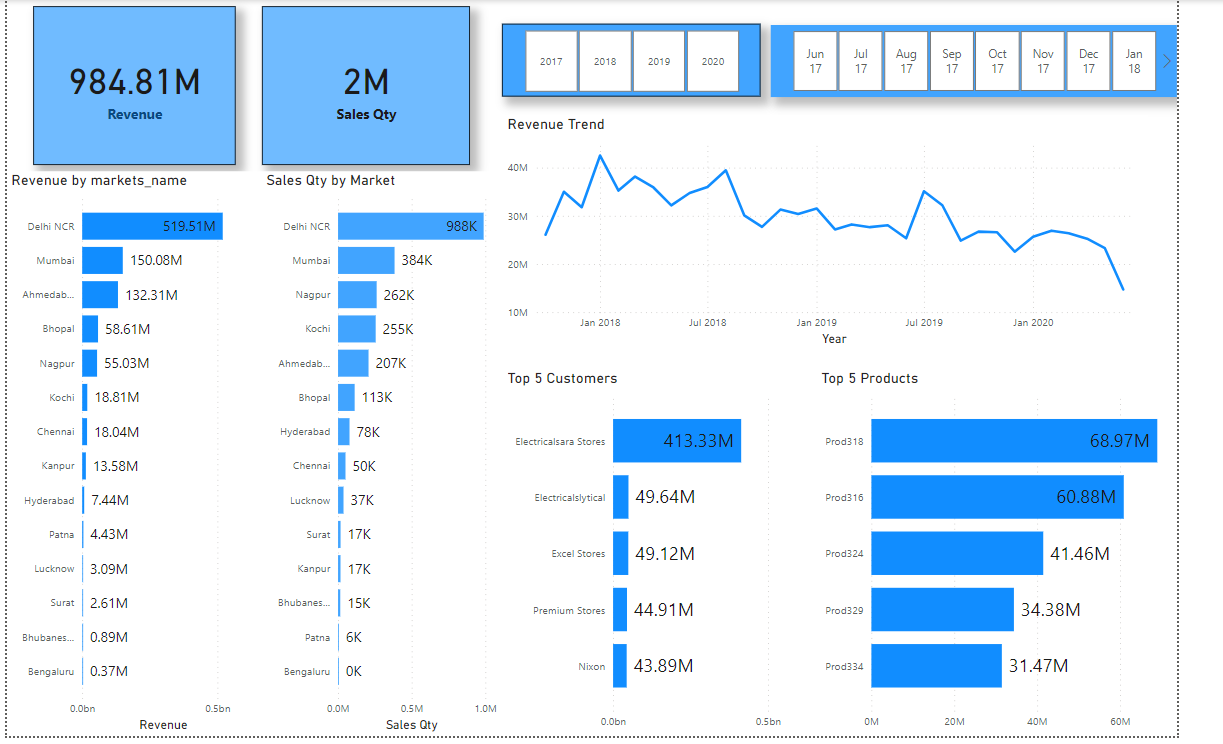

The dashboard page shown, as its layout file describes it:
{"tool":"powerbi","page":{"name":"Page 1","canvas":[1350,850],"ordinal":0},"visuals":[{"type":"card","fields":{"Values":["BaseMeasures.Revenue"]},"box":[30,6.7,233.3,183.3],"z":0},{"type":"card","fields":{"Values":["BaseMeasures.Sales Qty"]},"box":[295,6.7,240,183.3],"z":1000},{"type":"barChart","fields":{"Y":["BaseMeasures.Revenue"],"Category":["sales markets.markets_name"]},"box":[0,197.7,294.4,652.3],"z":2000},{"type":"barChart","title":"Sales Qty by Market","fields":{"Y":["BaseMeasures.Sales Qty"],"Category":["sales markets.markets_name"]},"box":[294.4,197.7,277.1,652.3],"z":3000},{"type":"slicer","fields":{"Values":["sales date.year"]},"box":[571.4,27.1,298.6,84.3],"z":4000},{"type":"slicer","fields":{"Values":["sales date.cy_date"]},"box":[881.4,28.6,468.6,82.8],"z":5000},{"type":"barChart","title":"Top 5 Customers","fields":{"Y":["BaseMeasures.Revenue"],"Category":["sales customers.custmer_name"]},"box":[573.3,425,361.7,425],"z":6000},{"type":"barChart","title":"Top 5 Products","fields":{"Category":["sales transactions.product_code"],"Y":["BaseMeasures.Revenue"]},"box":[935,425,415,425],"z":7000},{"type":"lineChart","title":"Revenue Trend","fields":{"Y":["BaseMeasures.Revenue"],"Category":["sales date.cy_date.Variation.Date Hierarchy.Year","sales date.cy_date.Variation.Date Hierarchy.Quarter","sales date.cy_date.Variation.Date Hierarchy.Month","sales date.cy_date.Variation.Date Hierarchy.Day"]},"box":[573.3,133.3,745,271.7],"z":8000}]}

Visuals, with their boxes in screenshot pixels (x1, y1, x2, y2):
card - BaseMeasures.Revenue: left=106, top=3, right=307, bottom=161
card - BaseMeasures.Sales Qty: left=335, top=3, right=542, bottom=161
barChart - BaseMeasures.Revenue x sales markets.markets_name: left=80, top=168, right=334, bottom=732
"Sales Qty by Market" barChart: left=334, top=168, right=574, bottom=732
slicer - sales date.year: left=574, top=20, right=832, bottom=93
slicer - sales date.cy_date: left=842, top=22, right=1222, bottom=93
"Top 5 Customers" barChart: left=575, top=364, right=888, bottom=732
"Top 5 Products" barChart: left=888, top=364, right=1222, bottom=732
"Revenue Trend" lineChart: left=575, top=112, right=1220, bottom=347
